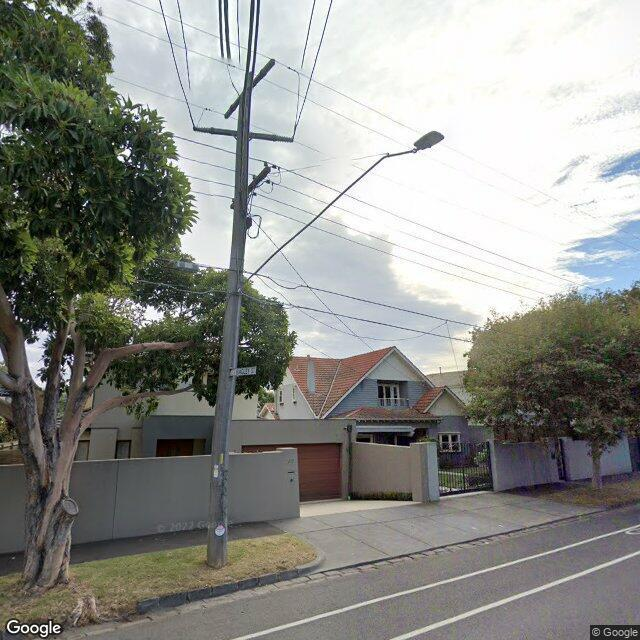HV-transmission: (224, 58, 275, 119), (193, 127, 295, 143)
crossarm: (230, 166, 271, 209), (210, 126, 276, 142), (234, 73, 261, 109)
streetlight: (236, 130, 445, 294)
timber-pole: (206, 72, 254, 570)
